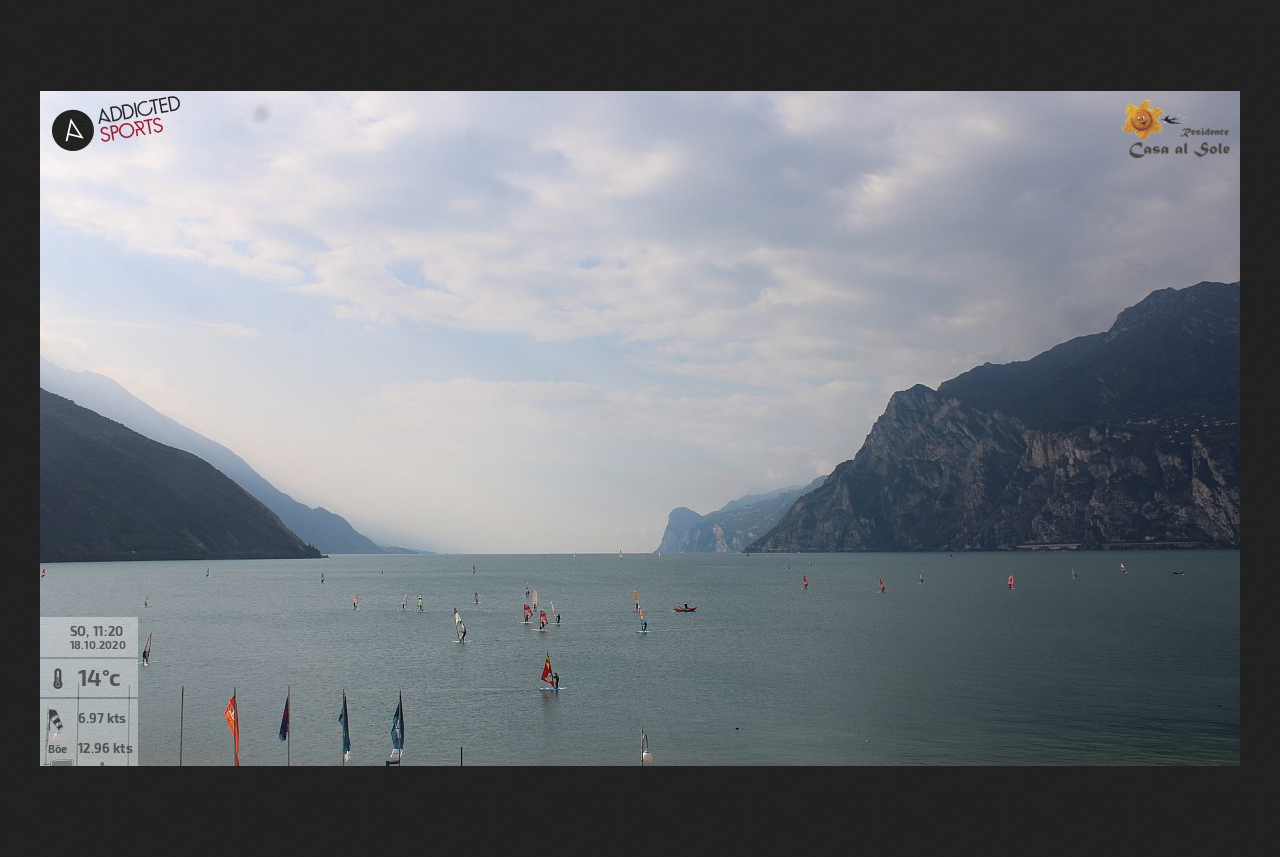no: (222, 697, 250, 768), (333, 700, 359, 759), (386, 694, 411, 754), (270, 695, 294, 743)
